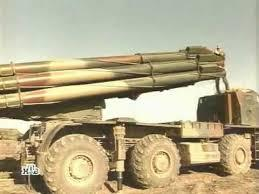MIL_SAM_TEL: (0, 46, 259, 194)
